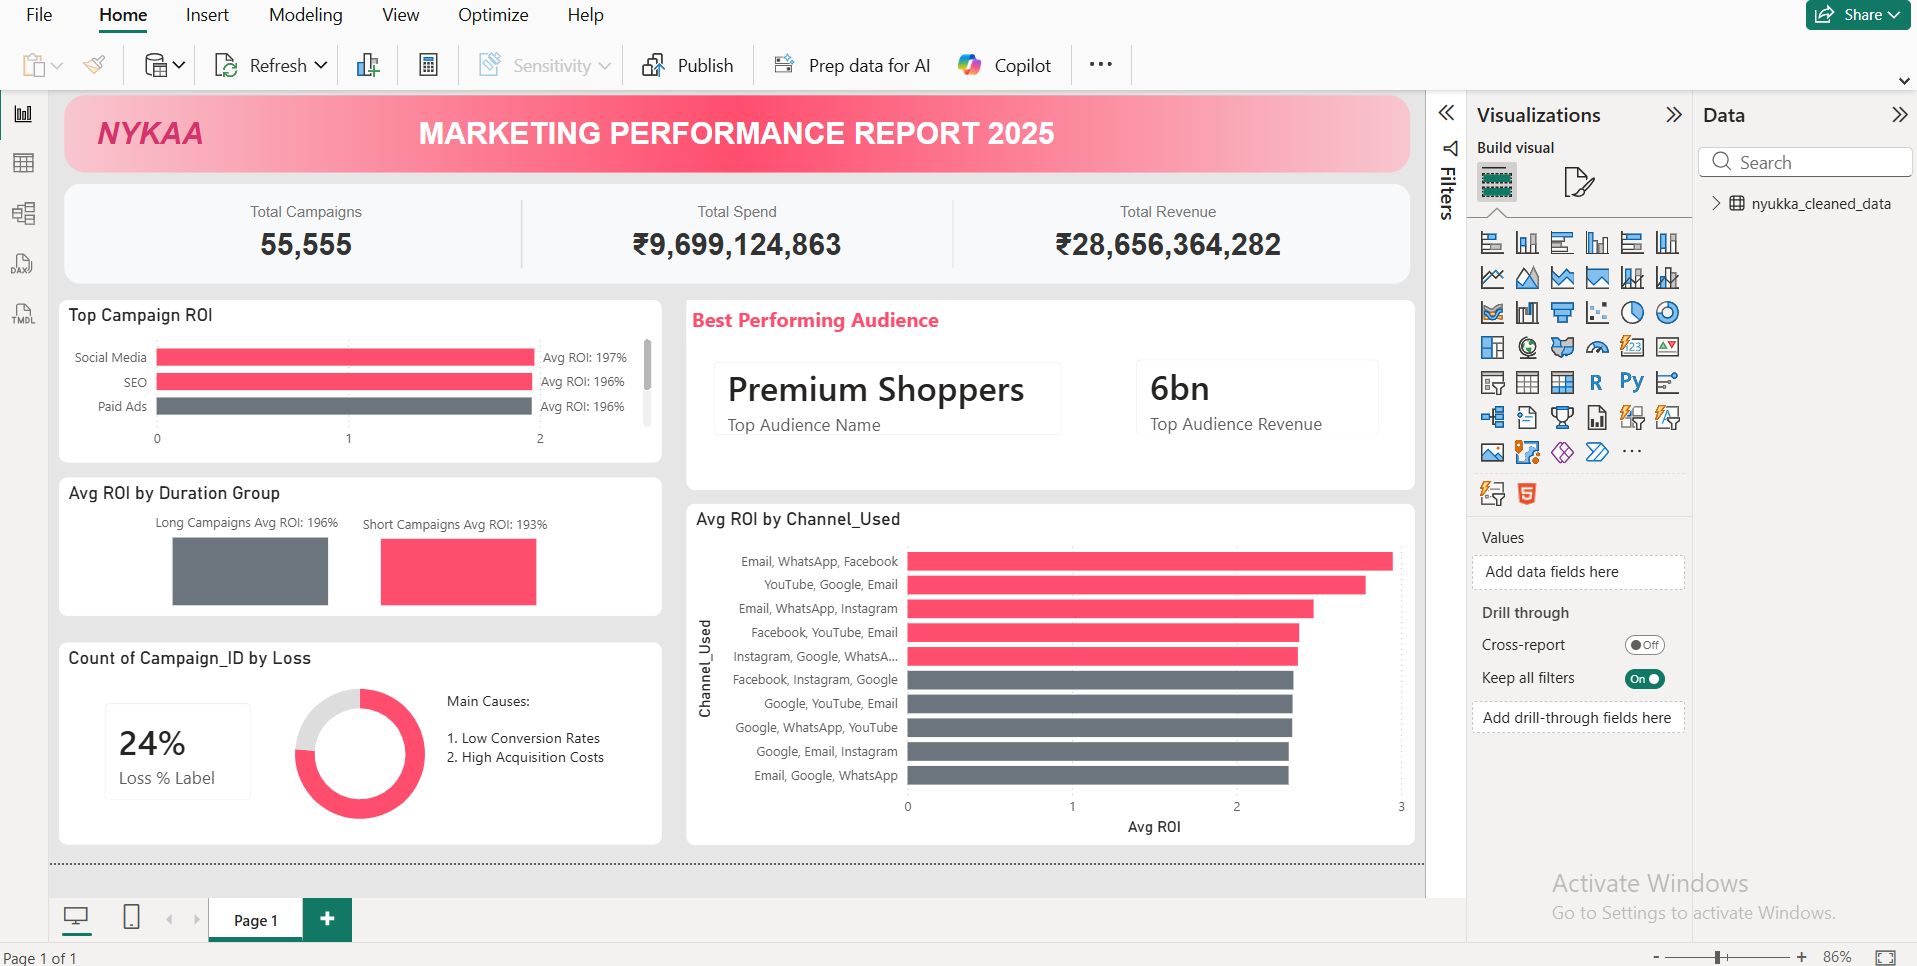

The page's visual inventory and layout, read from the dashboard file:
{"tool":"powerbi","page":{"name":"Page 1","canvas":[1280,720],"ordinal":0},"visuals":[{"type":"htmlContent443BE3AD55E043BF878BED274D3A6855","fields":{"content":["nyukka_cleaned_data.Title HTML"]},"box":[9.3,0,1261.6,82.6],"z":0},{"type":"htmlContent443BE3AD55E043BF878BED274D3A6855","fields":{"content":["nyukka_cleaned_data.Measure"]},"box":[9.3,82.6,1261.6,112.8],"z":1000},{"type":"clusteredBarChart","title":"Top Campaign ROI","fields":{"Category":["nyukka_cleaned_data.Campaign_Type"],"Y":["nyukka_cleaned_data.Avg ROI"]},"box":[22.1,195.3,547.7,151.2],"z":1001},{"type":"columnChart","fields":{"Category":["nyukka_cleaned_data.Duration Group"],"Y":["nyukka_cleaned_data.Avg ROI"]},"box":[22.1,360.5,547.7,129.1],"z":1002},{"type":"donutChart","fields":{"Category":["nyukka_cleaned_data.Loss"],"Y":["CountNonNull(nyukka_cleaned_data.Campaign_ID)"]},"box":[20.9,514,548.8,188.4],"z":1003},{"type":"cardVisual","fields":{"Data":["nyukka_cleaned_data.Loss % Label"]},"box":[34.9,553.5,170.9,124.4],"z":1004},{"type":"textbox","box":[365.1,553.5,193,124.4],"z":1005},{"type":"textbox","box":[593,195.3,677.9,176.7],"z":1006},{"type":"textbox","box":[593,195.3,248.8,40.7],"z":1007},{"type":"cardVisual","fields":{"Data":["nyukka_cleaned_data.Top Audience Name"]},"box":[601.2,236,358.1,102.3],"z":1008},{"type":"cardVisual","fields":{"Data":["nyukka_cleaned_data.Top Audience Revenue"]},"box":[994.2,233.7,260.5,104.7],"z":1009},{"type":"barChart","fields":{"Category":["nyukka_cleaned_data.Channel_Used"],"Y":["nyukka_cleaned_data.Avg ROI"]},"box":[593,384.9,677.9,317.4],"z":1010}]}

Visuals, with their boxes on the page's 1280x720 design canvas (x1, y1, x2, y2). These are canvas units, not pixel positions in the 1917x966 screenshot, which may show the page scaled, cropped or inside an application window:
htmlContent443BE3AD55E043BF878BED274D3A6855 - nyukka_cleaned_data.Title HTML: (9,0,1271,83)
htmlContent443BE3AD55E043BF878BED274D3A6855 - nyukka_cleaned_data.Measure: (9,83,1271,195)
"Top Campaign ROI" clusteredBarChart: (22,195,570,346)
columnChart - nyukka_cleaned_data.Duration Group x nyukka_cleaned_data.Avg ROI: (22,360,570,490)
donutChart - nyukka_cleaned_data.Loss x CountNonNull(nyukka_cleaned_data.Campaign_ID): (21,514,570,702)
cardVisual - nyukka_cleaned_data.Loss % Label: (35,554,206,678)
textbox: (365,554,558,678)
textbox: (593,195,1271,372)
textbox: (593,195,842,236)
cardVisual - nyukka_cleaned_data.Top Audience Name: (601,236,959,338)
cardVisual - nyukka_cleaned_data.Top Audience Revenue: (994,234,1255,338)
barChart - nyukka_cleaned_data.Channel_Used x nyukka_cleaned_data.Avg ROI: (593,385,1271,702)
